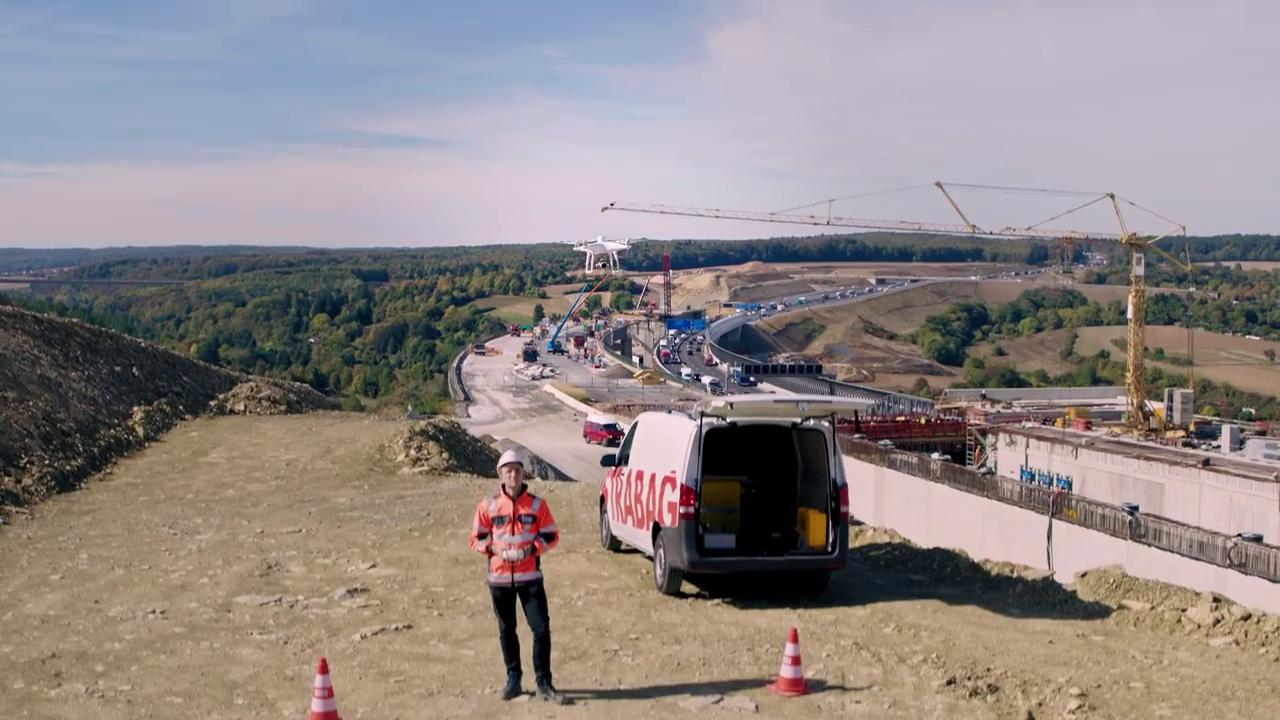drone: (567, 234, 636, 271)
